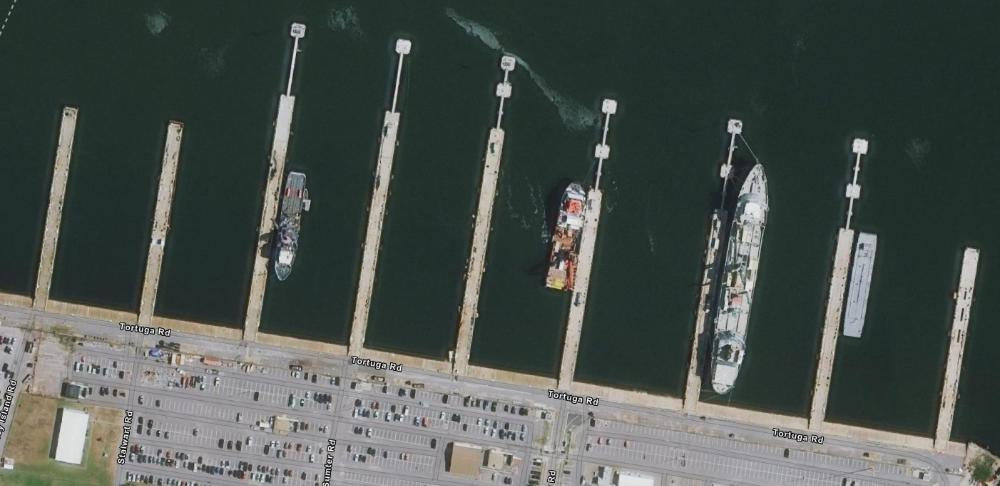supply: (696, 148, 775, 406)
